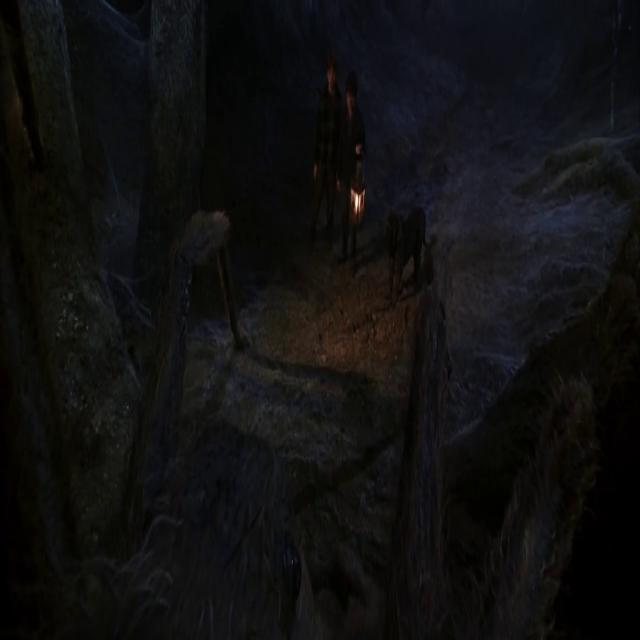Dog: (152, 159, 270, 469)
